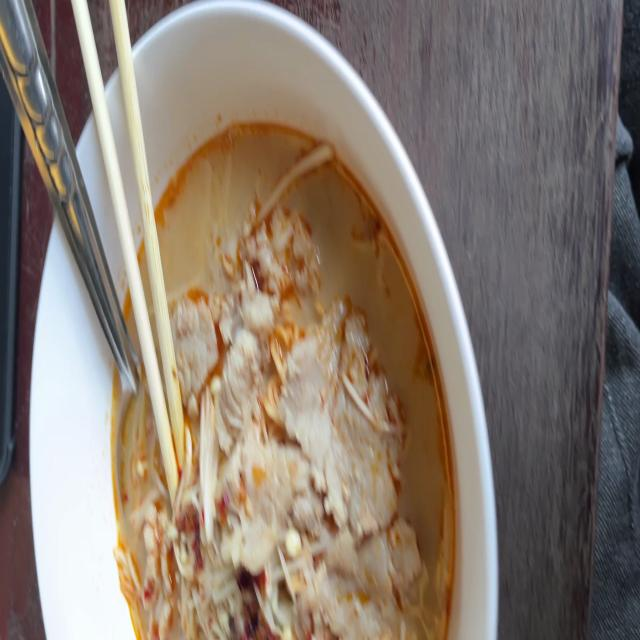noodle: (99, 109, 465, 640)
